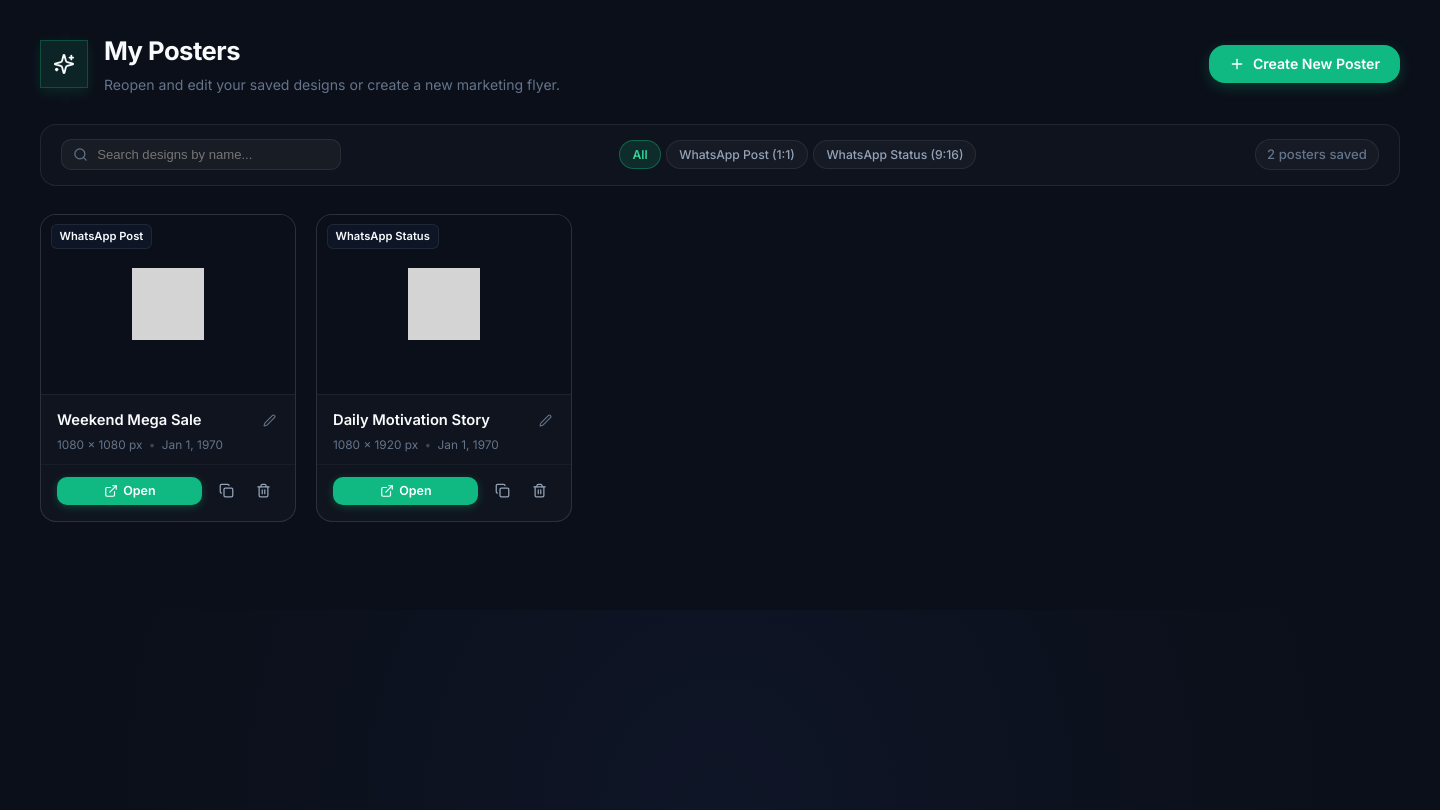
Test: Phase 3B: Gallery-First Landing Screen Integration Tests › 2. Search & Preset Filtering in Gallery › filters saved posters dynamically by search title
Check: the heading "Weekend Mega Sale" is shown, box [57,409,202,431]
Type "Motivation" into the field named "Search saved designs".
click(201, 155); type("Motivation")  # box [61,139,341,170]
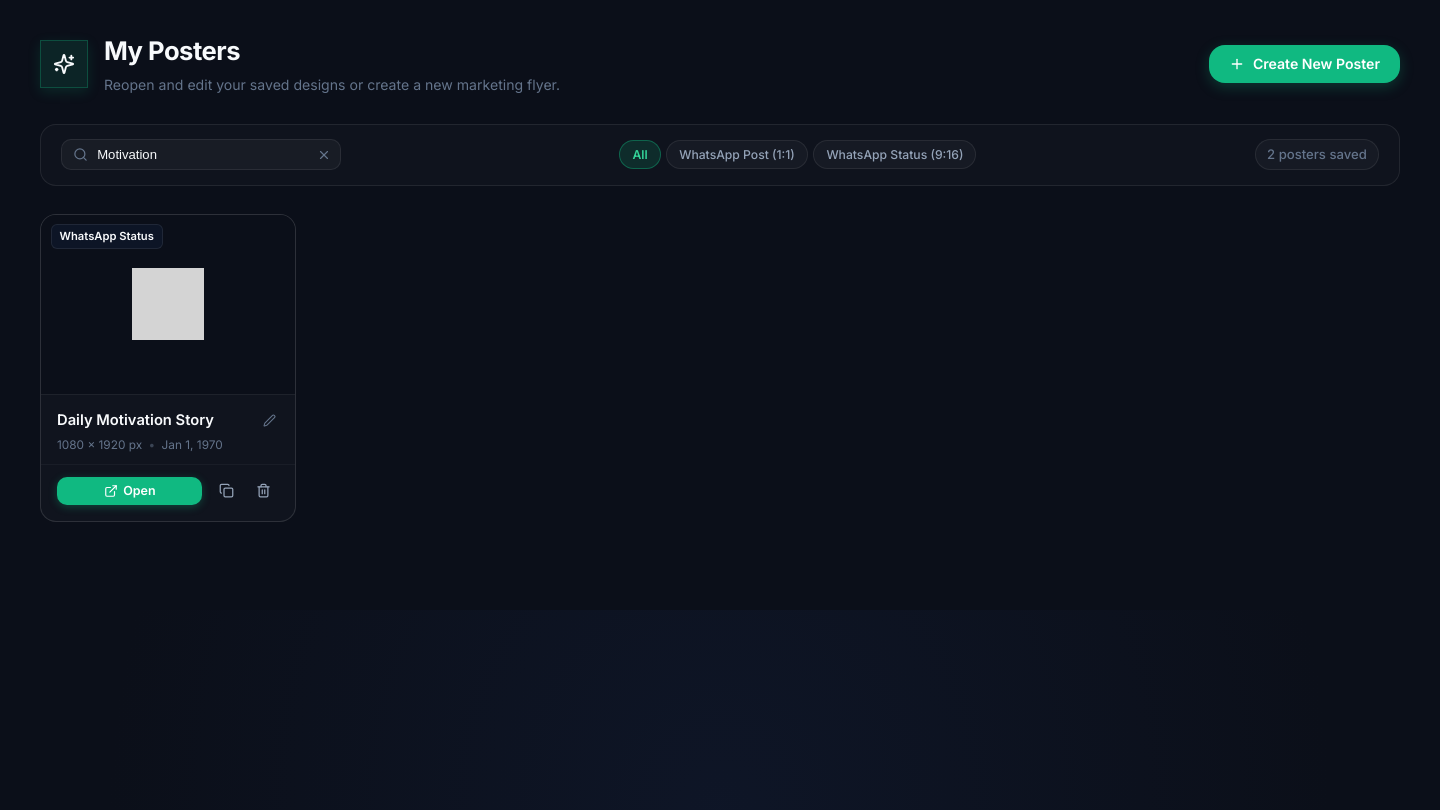
Check: the heading "Daily Motivation Story" is shown, box [57,409,214,431]
Check: the heading "Weekend Mega Sale" is gone
Note: Clear search button
Click the button named "Clear search".
click(324, 155)  # box [317,148,331,162]
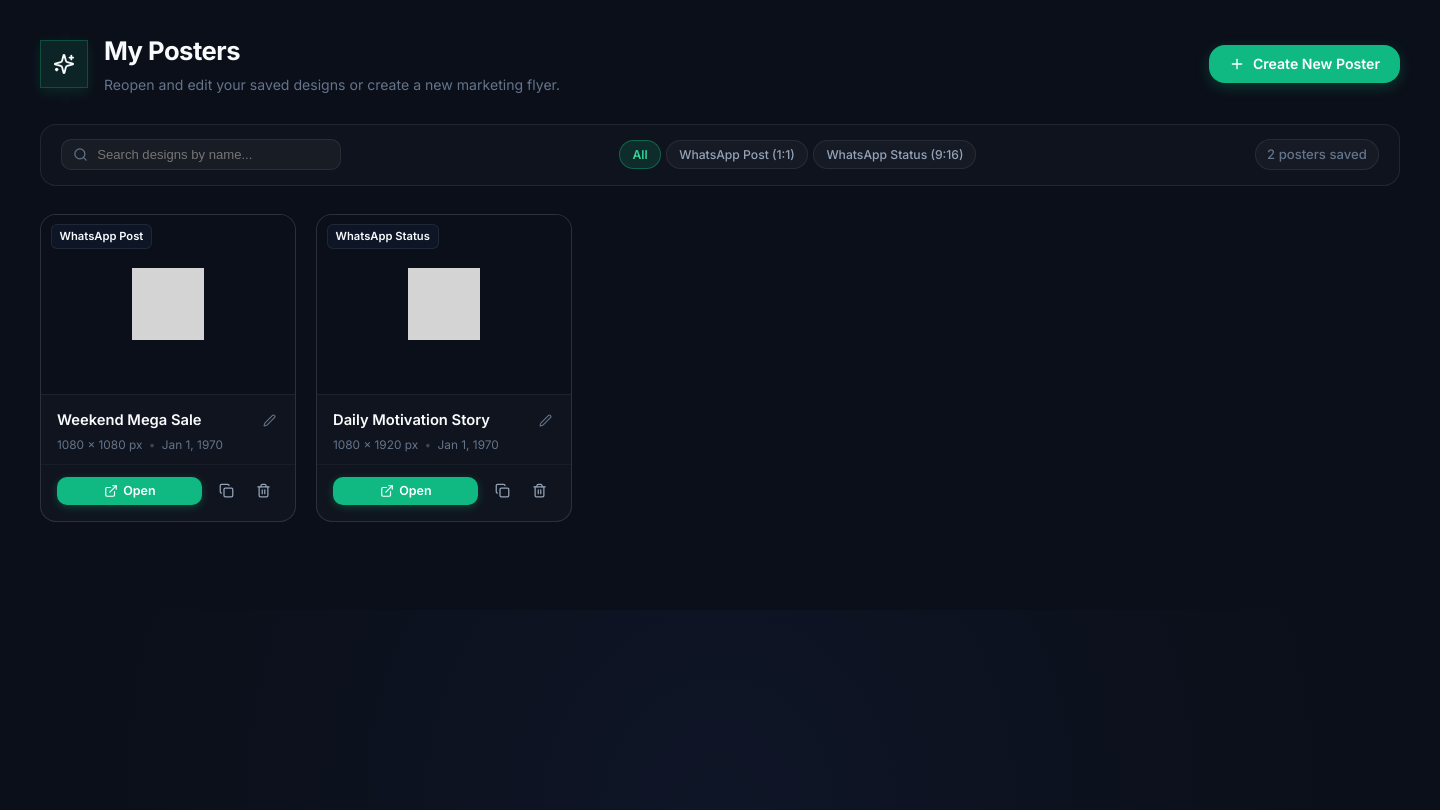
Check: the heading "Daily Motivation Story" is shown, box [333,409,490,431]
Check: the heading "Weekend Mega Sale" is shown, box [57,409,202,431]
